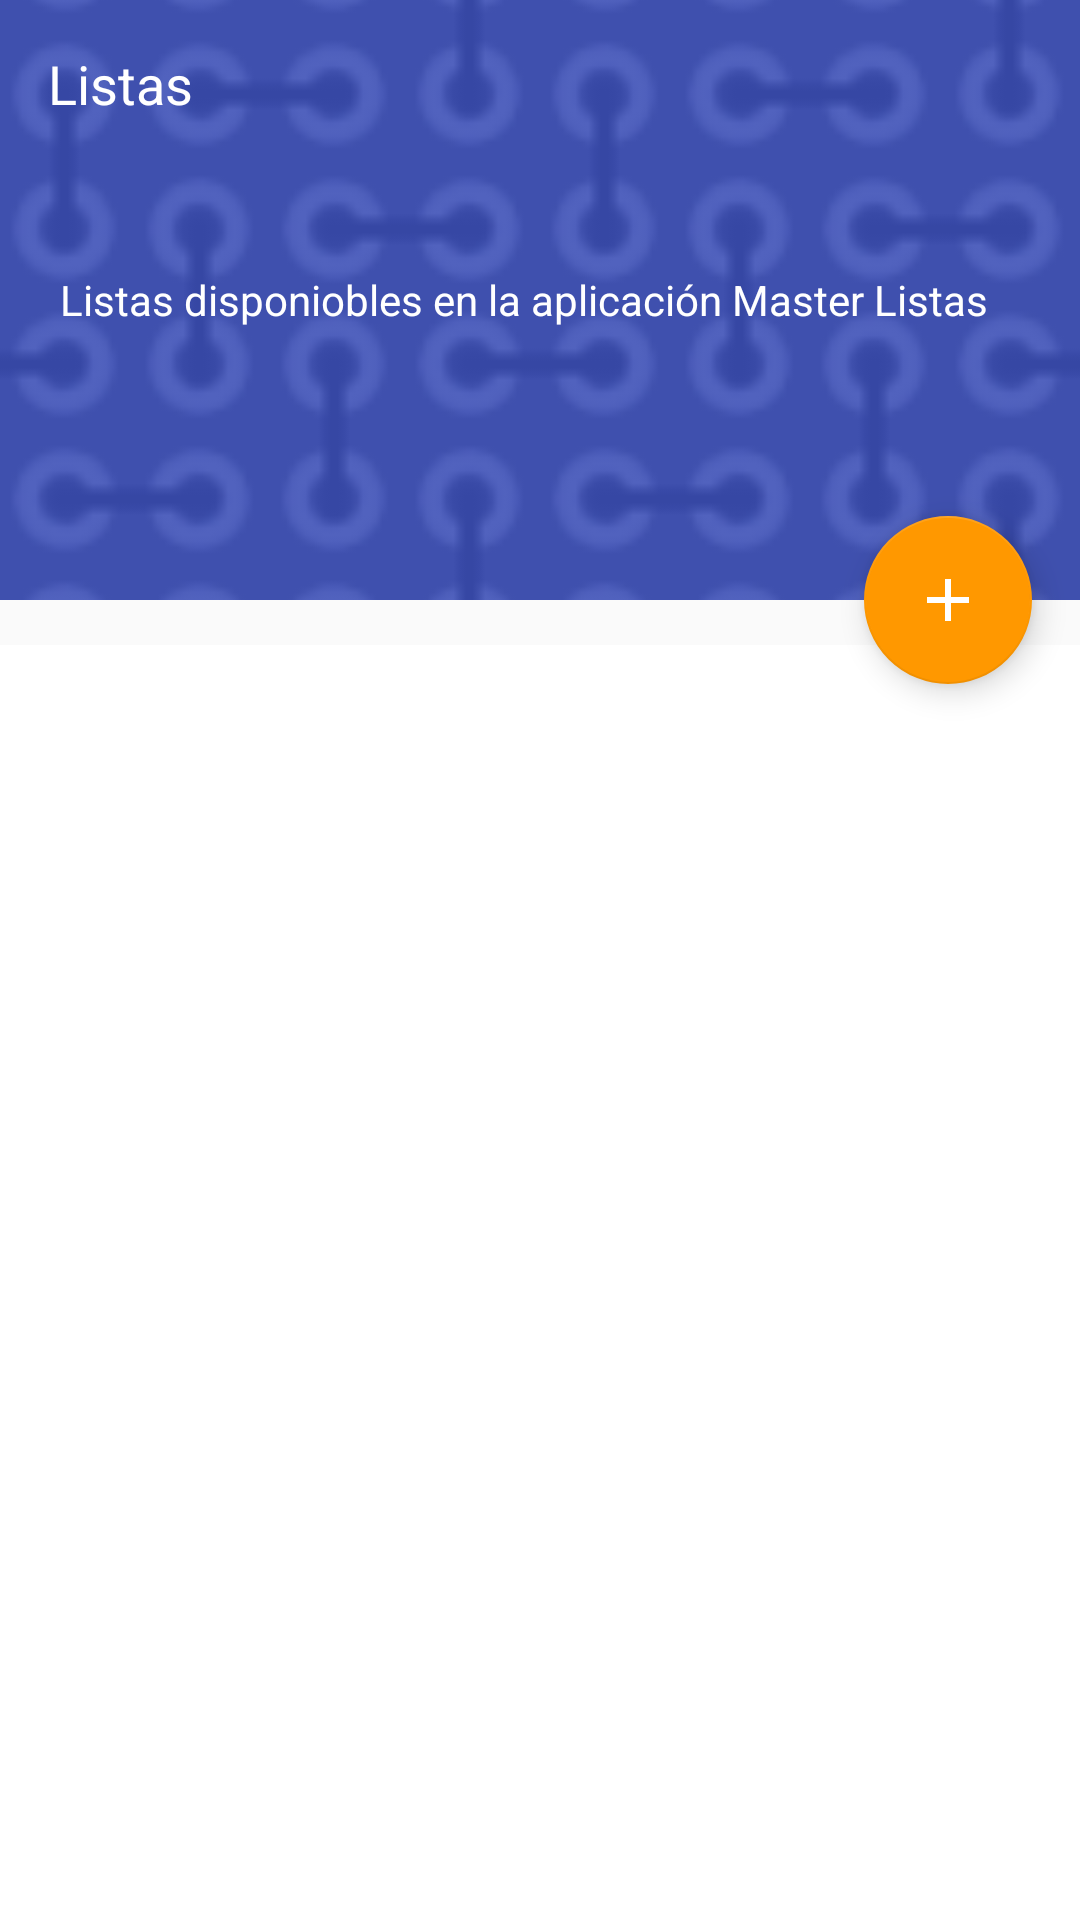

Named icons in this screenshot (1080 x 1920) and their centers, [x,y]:
fab plus: [948,600]
